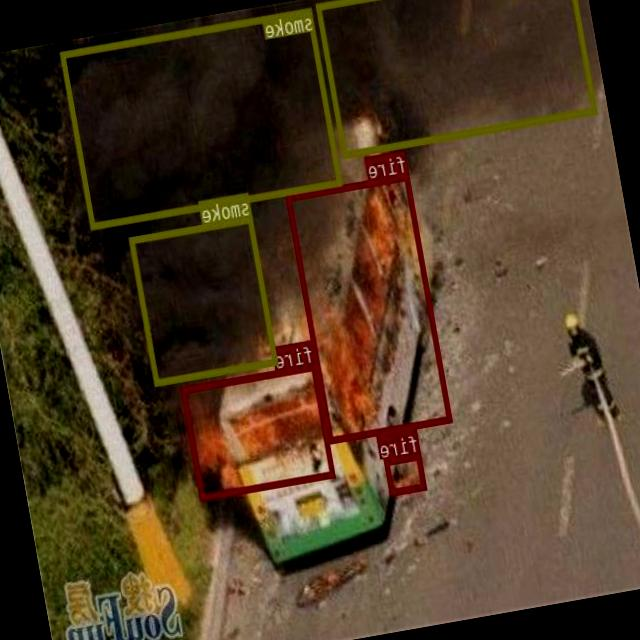fire: (286, 172, 453, 442), (180, 362, 336, 498), (384, 452, 428, 494)
smoke: (60, 6, 342, 228), (316, 0, 597, 155), (130, 215, 278, 384)
